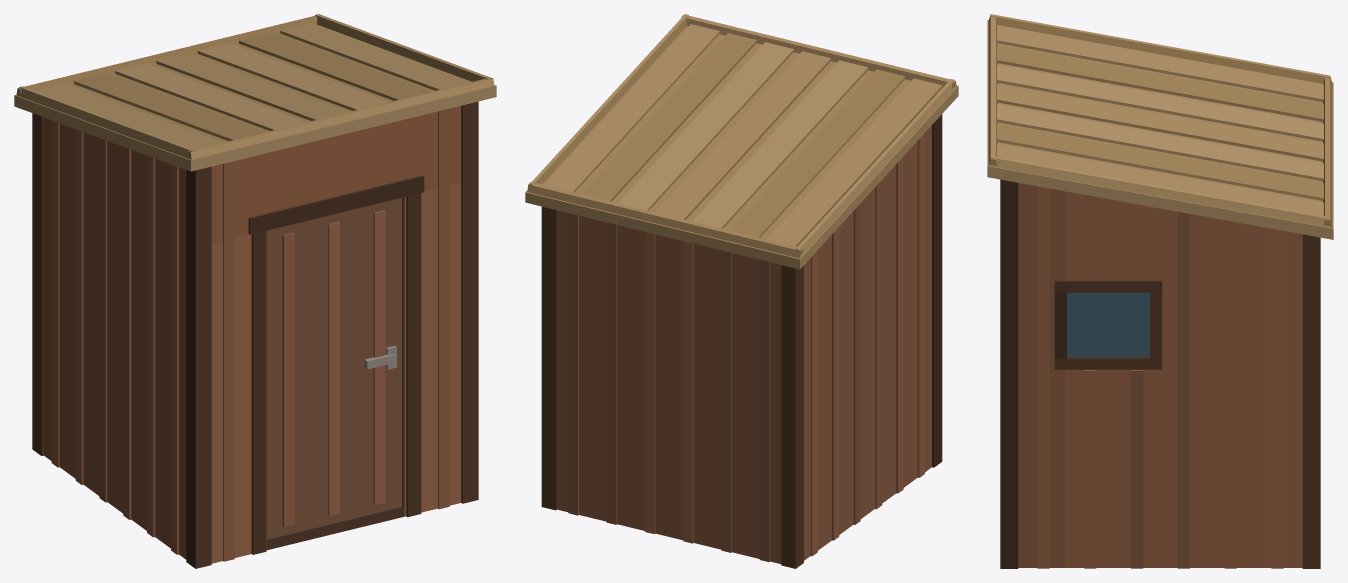
File: Shed.gltf
3 renders of one model, left to right at view 1: azimuth 30°, elevation 25°; view 2: azimuth 150°, elevation 25°; view 3: azimuth 270°, elevation 25°, orthographic. The views are drawn at different scales.
Visible parts, largest first — view 1: shed-shell, door-leaf; view 2: shed-shell; view 3: shed-shell.
Boxes of the visible parts, left/top/right/bottom form: shed-shell: left=14, top=14, right=496, bottom=568; door-leaf: left=267, top=198, right=401, bottom=539; shed-shell: left=525, top=14, right=958, bottom=568; shed-shell: left=987, top=14, right=1333, bottom=568.
Bounding box in the file's own units: 2 × 2.65 × 2.
